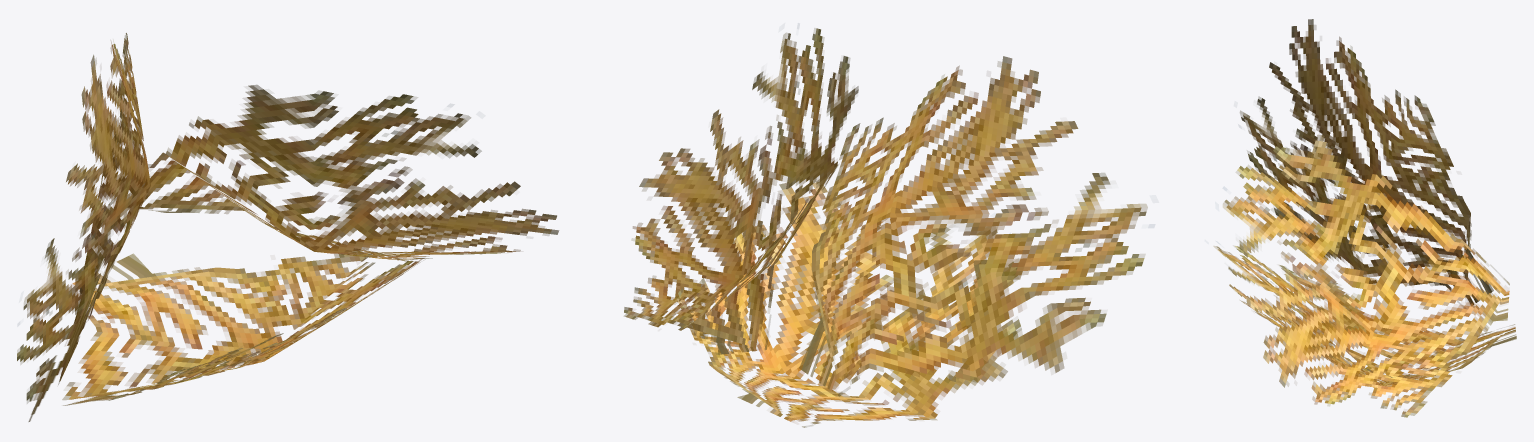
3 views of the same model, side by side, from view 1: azimuth 30°, elevation 25°; view 2: azimuth 150°, elevation 25°; view 3: azimuth 270°, elevation 25° (orthographic). The views are drawn at different scales.
Visible parts, largest first — view 1: model_Object06; view 2: model_Object06; view 3: model_Object06.
Part boxes in pixels (left/top/right/bottom): model_Object06: left=17, top=33, right=558, bottom=421; model_Object06: left=624, top=28, right=1147, bottom=427; model_Object06: left=1213, top=19, right=1516, bottom=417.
Bounding box in the file's own units: 2.15 × 1.42 × 1.36.
1 material, 1 textured.
